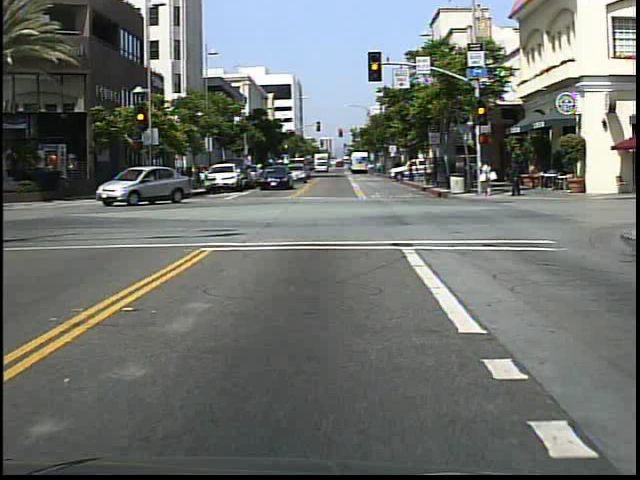person: (477, 157, 498, 200), (507, 154, 524, 197), (126, 164, 144, 199)
